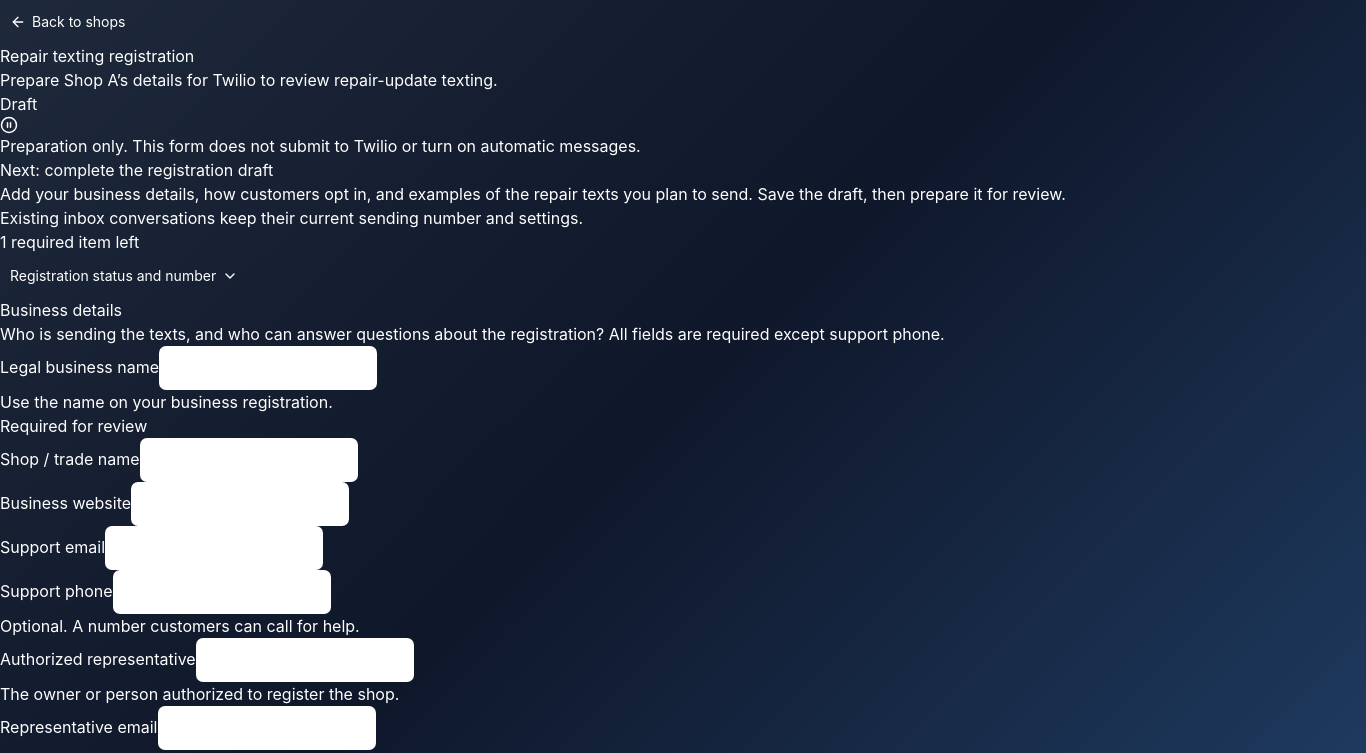
SMS onboarding › explains purpose and next step without treating a configured sender as approval
Check: the heading "Next: complete the registration draft" is shown, box [0,160,273,180]
Check: the text "does not submit to Twilio or turn on automatic messages" is shown, box [0,136,641,156]
Click the button "Registration status and number". click: (124,276)
box: [0,254,248,298]
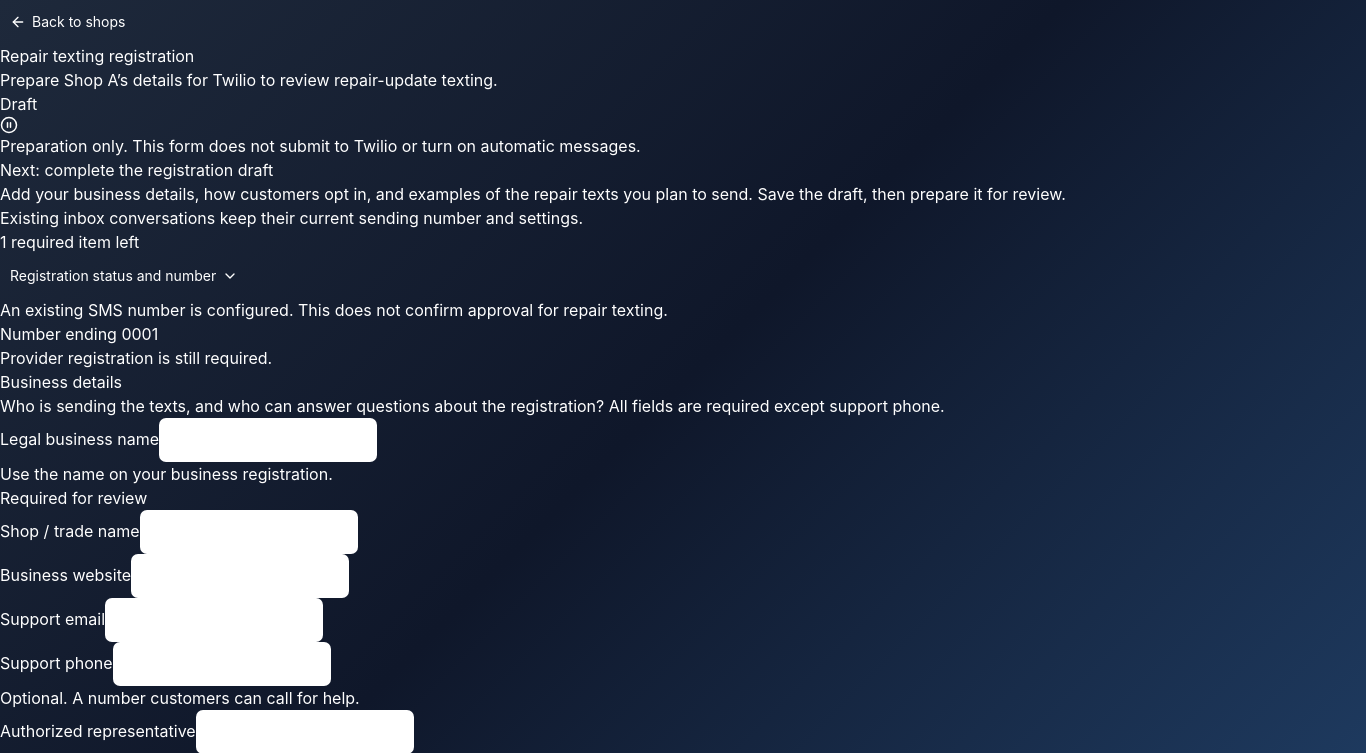
Check: the text "does not confirm approval for repair texting" is shown, box [0,300,668,320]
